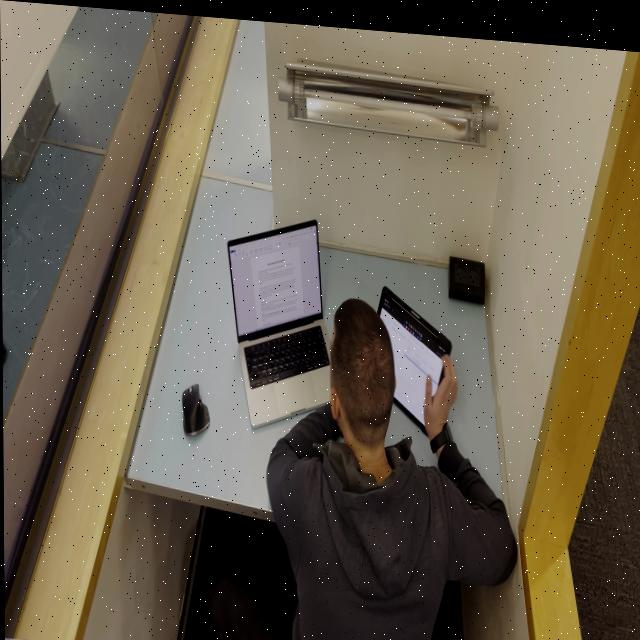bag: (376, 278, 453, 432)
ipad: (198, 281, 518, 640)
laptop: (227, 208, 332, 431)
mouse: (181, 379, 210, 435)
